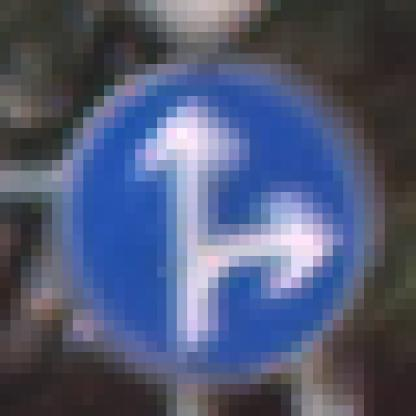Straight or Right: (53, 54, 355, 364)
